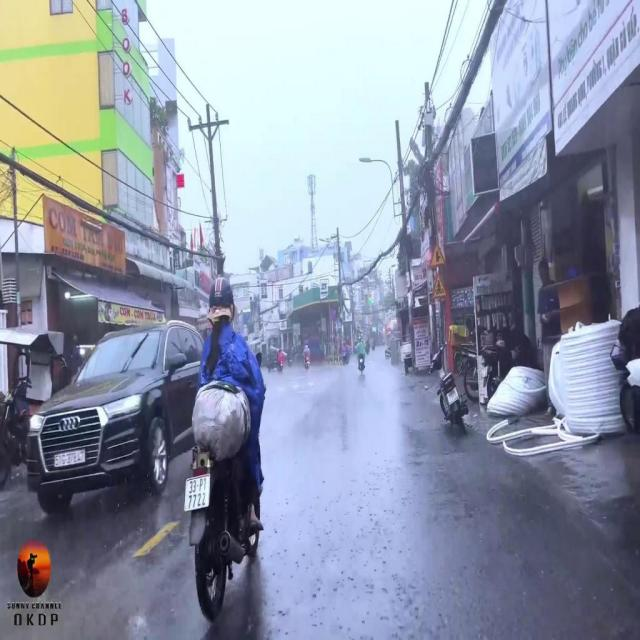chu_y_nguoi_di_bo_cat_ngang: (432, 272, 448, 298)
giao_nhau_voi_duong_khong_uu_tien: (430, 242, 446, 267)
